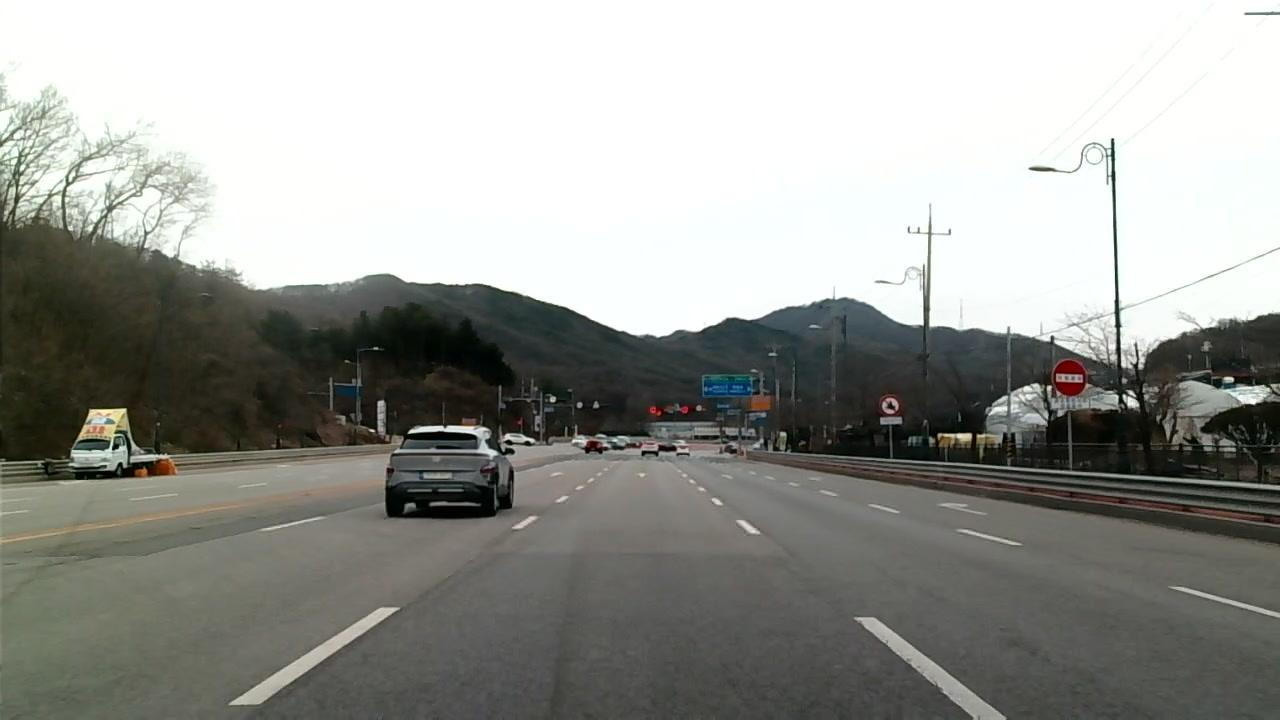vcrack: (38, 544, 153, 566)
